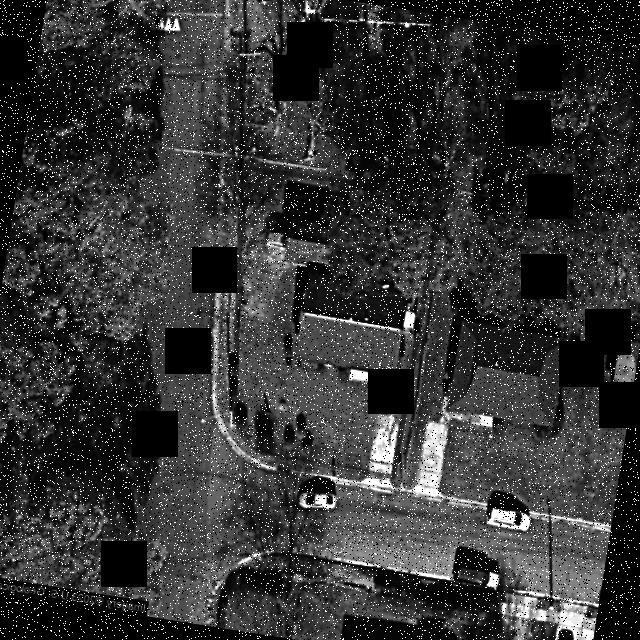Driveway: (368, 414, 398, 472)
Extra Driveway: (363, 476, 392, 489)
Extra Lawn: (217, 270, 365, 480)
House: (289, 273, 411, 383), (286, 222, 342, 265)
